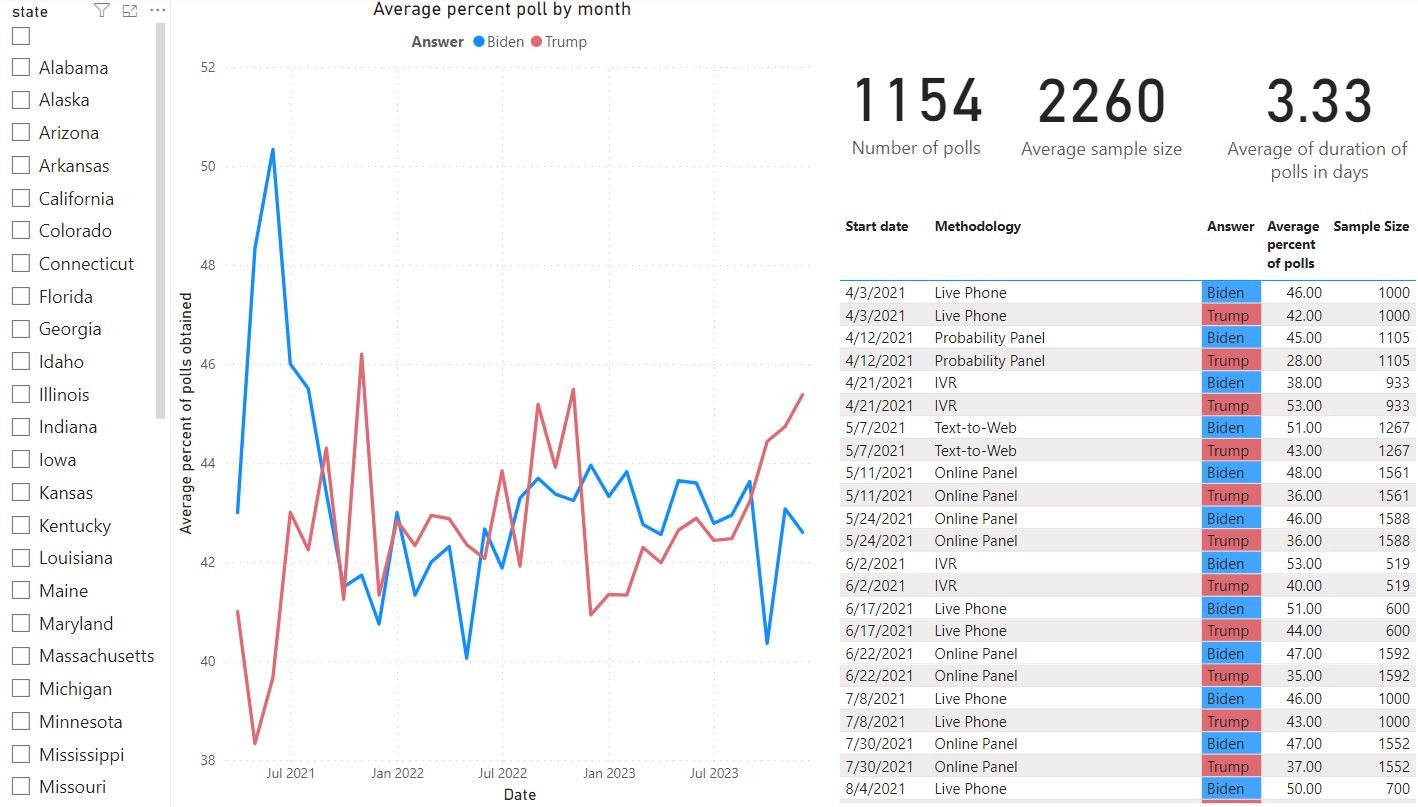

Layout of this report page (visuals, bound fields, positions):
{"tool":"powerbi","page":{"name":"State by state evolution and confidence","canvas":[1280,720],"ordinal":2},"visuals":[{"type":"lineChart","title":"Average percent poll by month","fields":{"Y":["Avg(president_polls.percent)"],"Series":["president_polls.answer"],"Category":["president_polls.end date (bins) 2"]},"box":[154.3,0,587,720],"z":0},{"type":"slicer","fields":{"Values":["president_polls.state"]},"box":[0,0,154.3,720],"z":1000},{"type":"card","title":"Number of polls ","fields":{"Values":["Count(president_polls.poll_id)"]},"box":[741.3,0,147.2,188.9],"z":2000},{"type":"card","fields":{"Values":["Avg(president_polls.sample_size)"]},"box":[892.9,1.8,172.9,187.1],"z":3000},{"type":"tableEx","fields":{"Values":["president_polls.start date","president_polls.methodology","president_polls.answer","Avg(president_polls.percent)","Sum(president_polls.sample_size)"]},"box":[741.3,188.9,539.1,531.1],"z":4000},{"type":"card","fields":{"Values":["Avg(president_polls.Duration)"]},"box":[1066,2,214,187],"z":4001}]}

Visuals, with their boxes in screenshot pixels (x1, y1, x2, y2), scaled from the page's 1280x720 canvas onto the 1418x807 screenshot:
"Average percent poll by month" lineChart: pyautogui.locateOnScreen(171, 0, 821, 806)
slicer - president_polls.state: pyautogui.locateOnScreen(0, 0, 171, 806)
"Number of polls " card: pyautogui.locateOnScreen(821, 0, 984, 212)
card - Avg(president_polls.sample_size): pyautogui.locateOnScreen(989, 2, 1181, 212)
tableEx - president_polls.start date x president_polls.methodology: pyautogui.locateOnScreen(821, 212, 1417, 806)
card - Avg(president_polls.Duration): pyautogui.locateOnScreen(1181, 2, 1417, 212)
